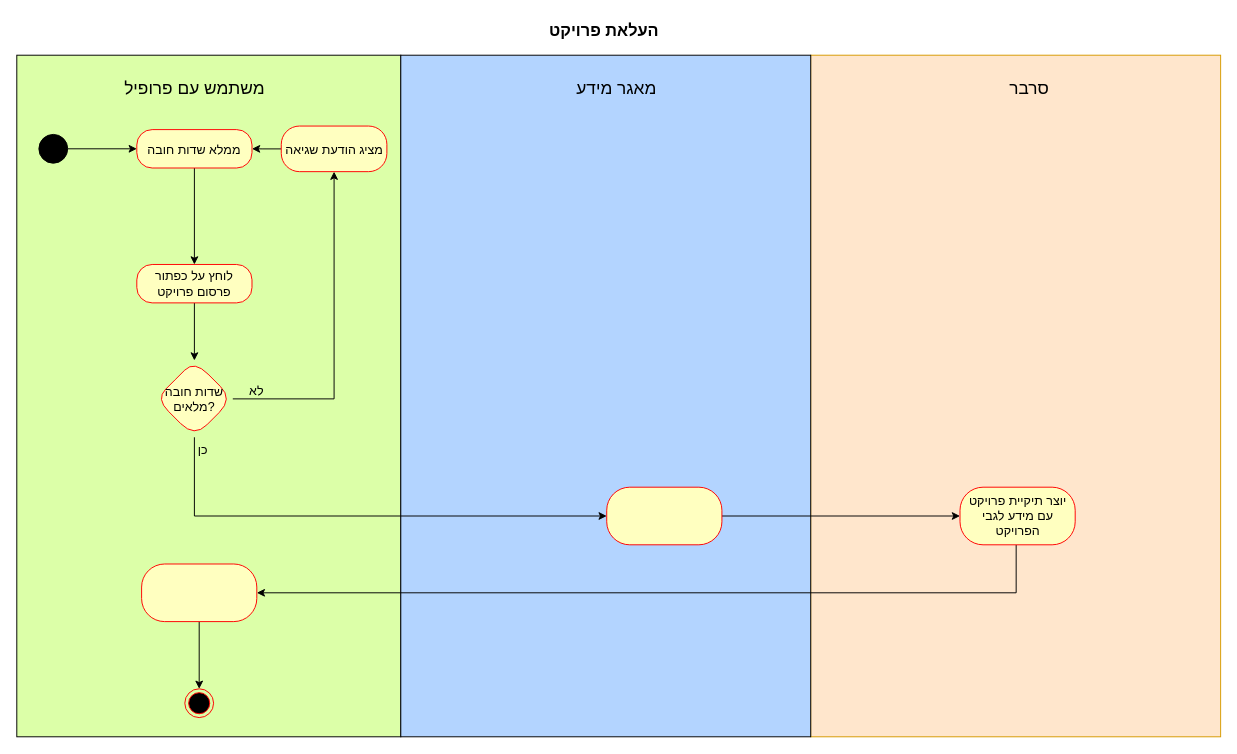
The diagram is 1237 pixels wide and 754 high, and some of its shapes have lost their labels. Each missing label, with the centre of its shape:
"עובר לדף פרופיל" belongs at (x=199, y=592).
"שומר את פרטיי פרויקט במאגר המידע" belongs at (x=664, y=515).
